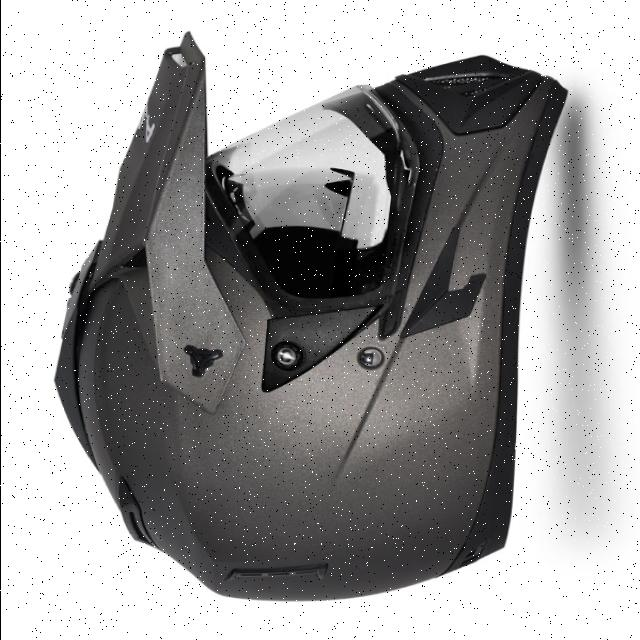Helmet: (54, 34, 565, 600)
